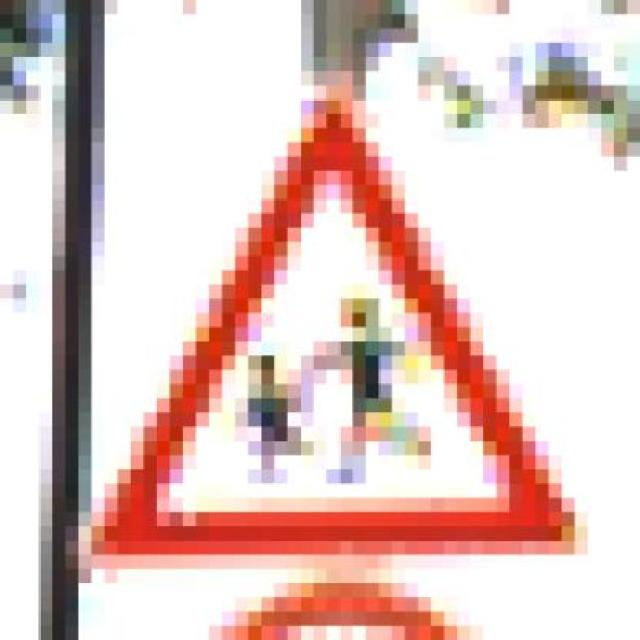Beware of children: (78, 71, 574, 569)
